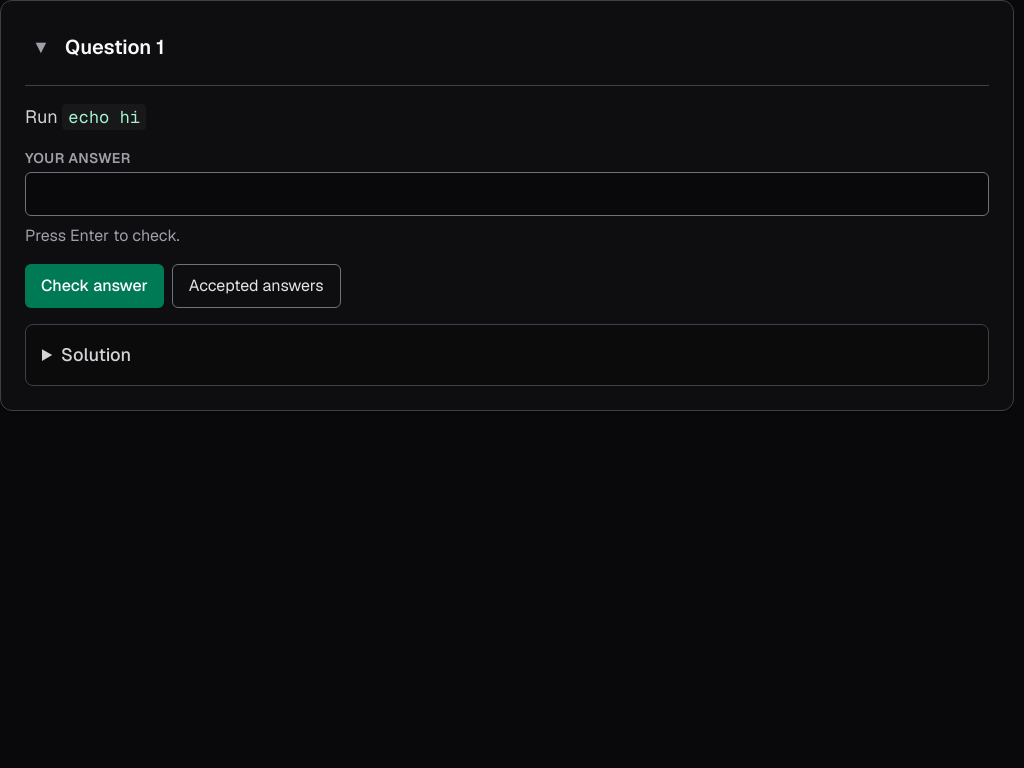
Test: QuestionBlock › opens accepted-answers modal and shows expectedOutput
The image size is (1024, 768).
Click the button "Accepted answers" at (256, 286), box [172, 264, 341, 308]
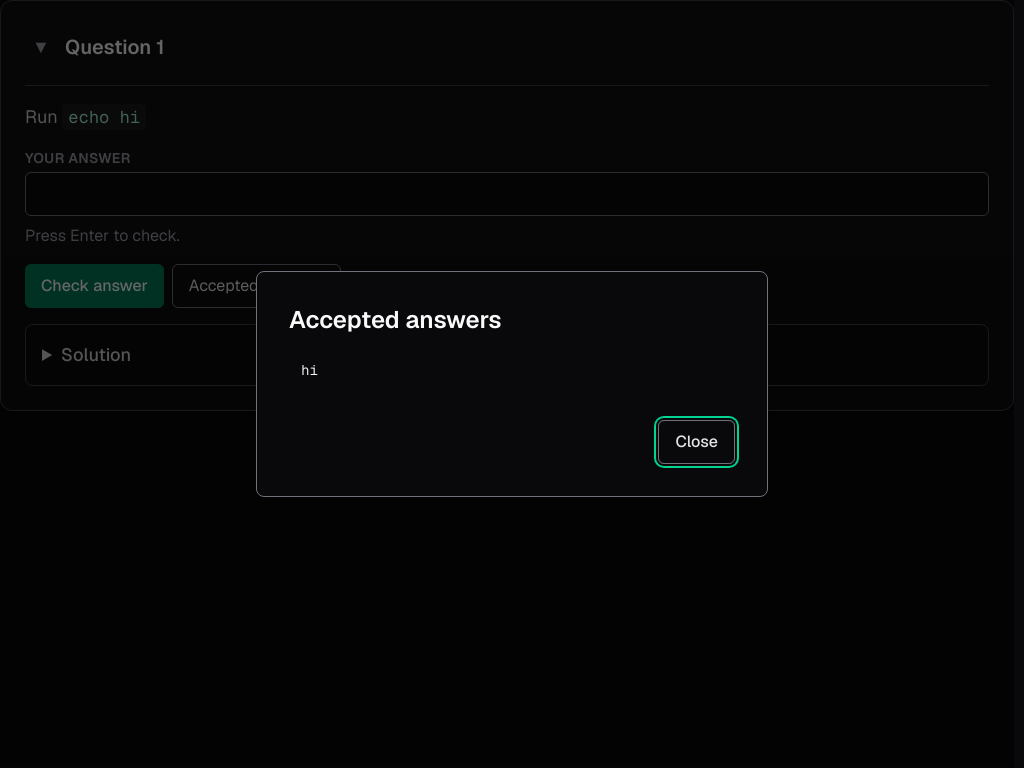
Expected: the dialog "Accepted answers hi Close" is shown, [256, 271, 768, 497]
Expected: the text "hi" is shown, [289, 352, 735, 388]
